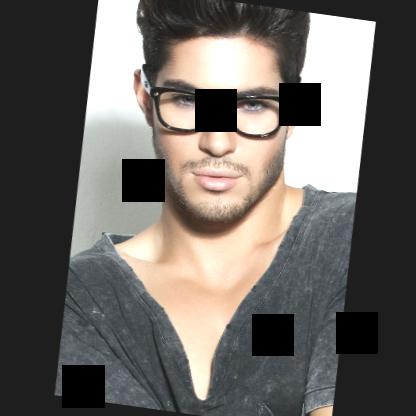Male: (110, 17, 316, 233)
